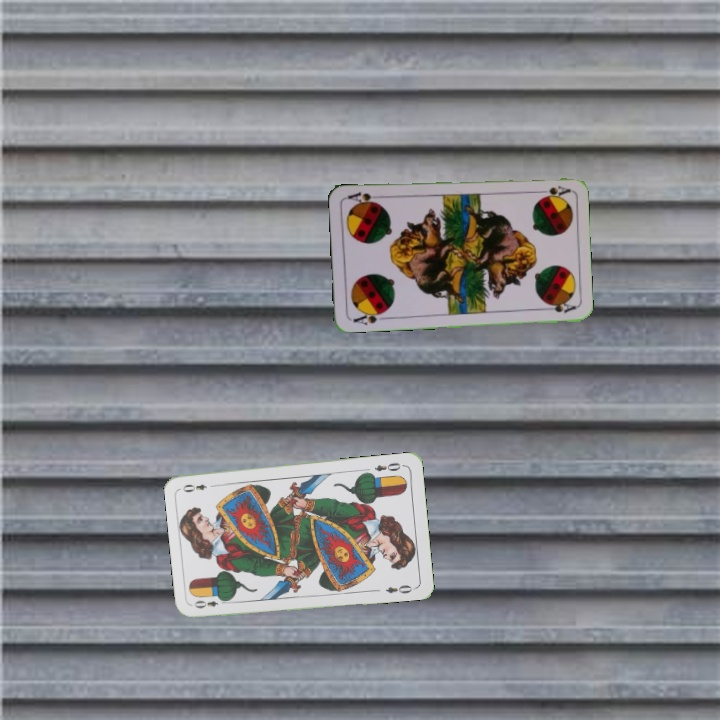EO: (190, 594, 230, 611), (370, 458, 406, 474)
SA: (349, 307, 388, 327), (531, 182, 572, 199)
